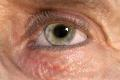eye: (44, 24, 75, 45)
